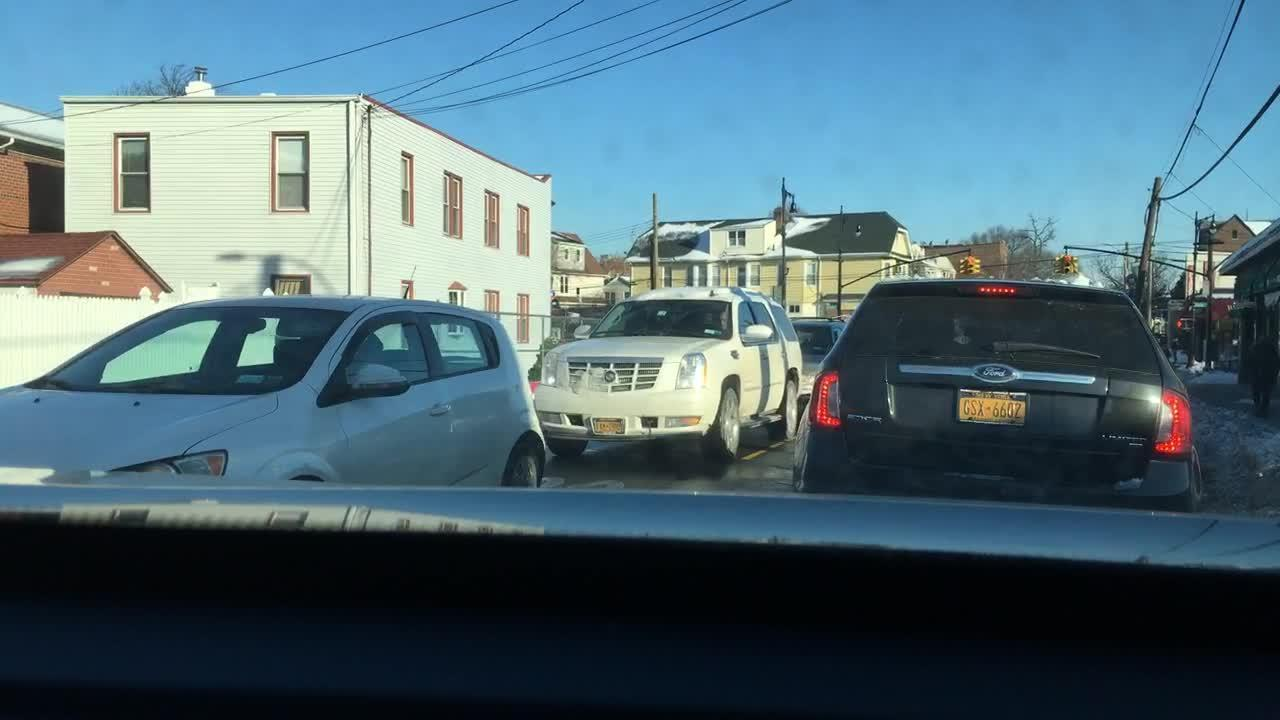ford: (974, 355, 1021, 389)
